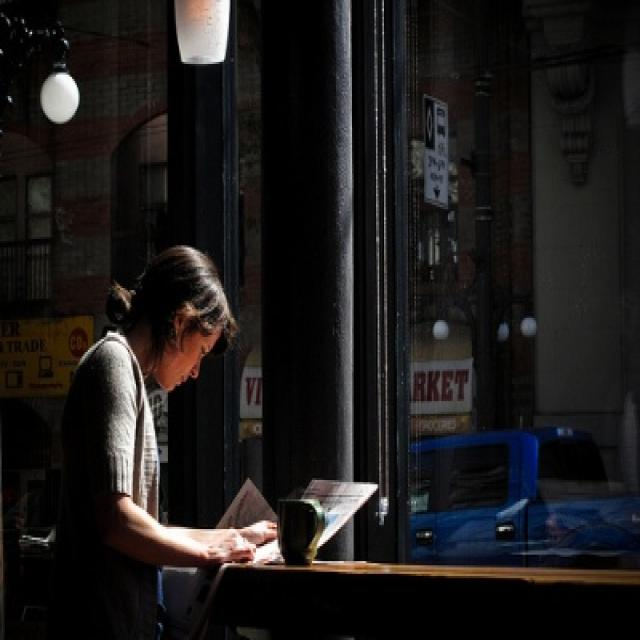Cup: (278, 495, 325, 558)
People: (34, 234, 234, 625)
Table: (167, 509, 640, 640)
